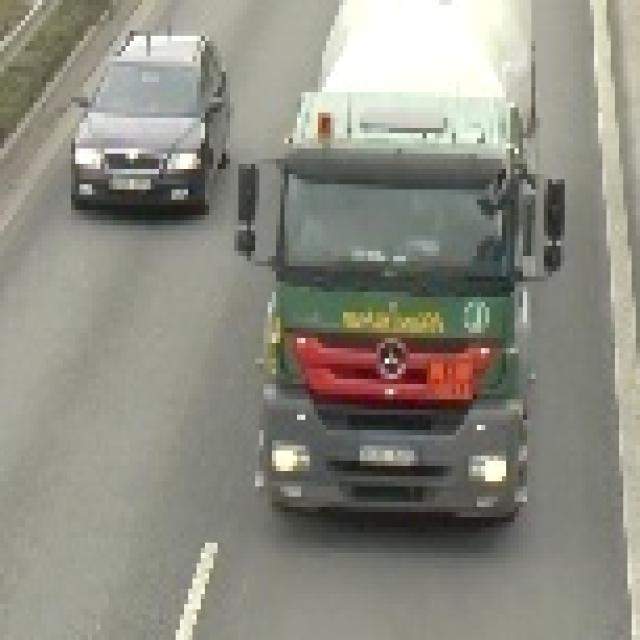truck: (231, 1, 562, 523)
